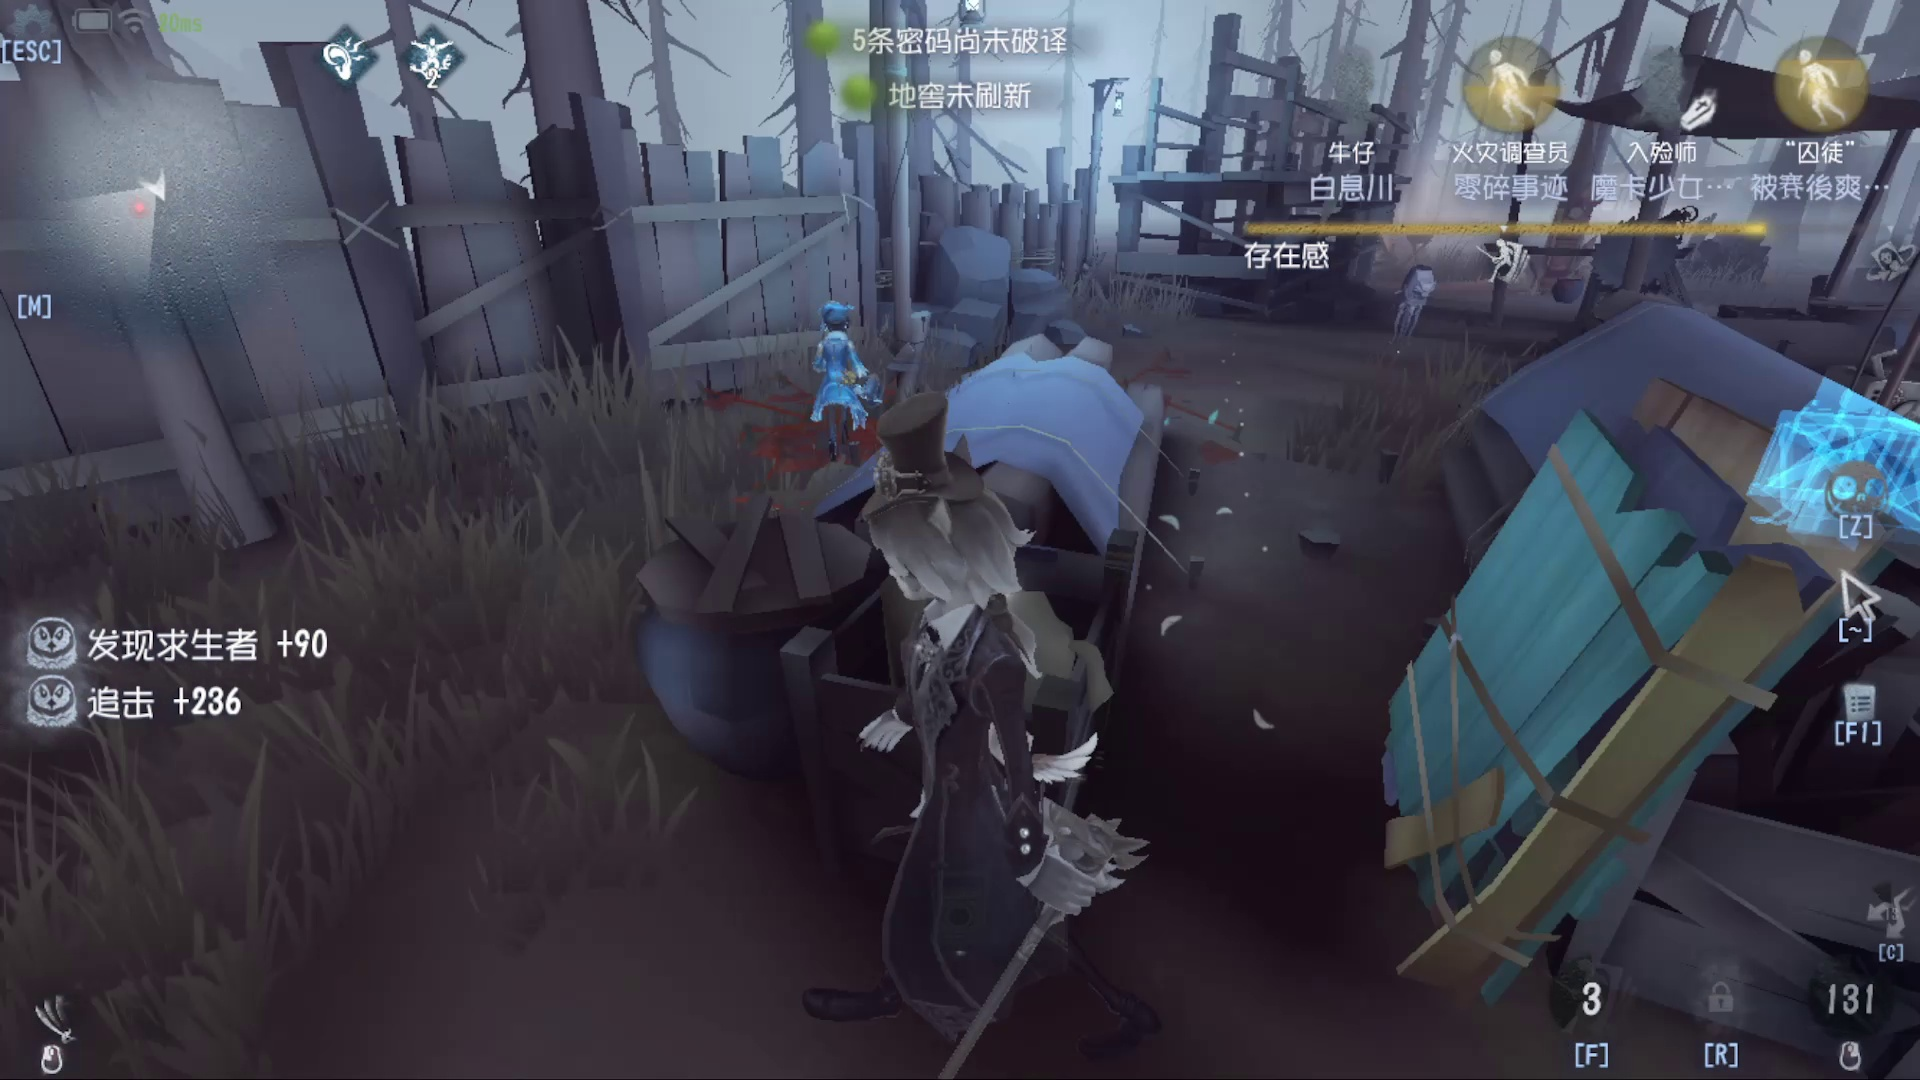木板: (1342, 392, 1741, 947)
求生者: (783, 276, 876, 451)
